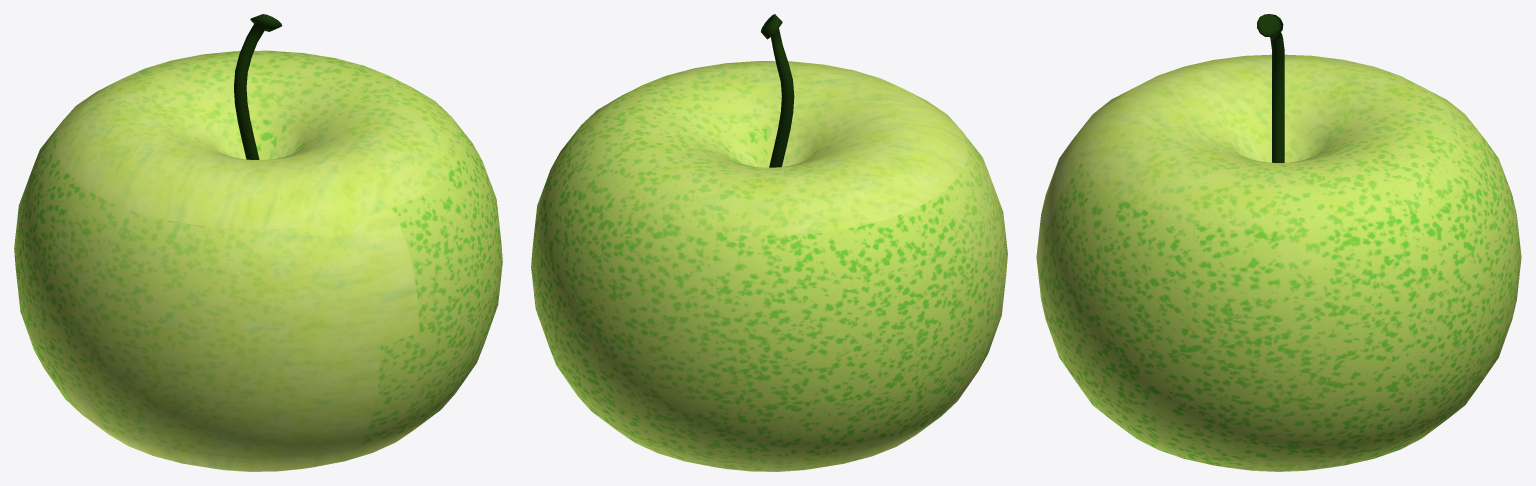
Rendered from apple.glb.
3 renders of one model, left to right at view 1: azimuth 30°, elevation 25°; view 2: azimuth 150°, elevation 25°; view 3: azimuth 270°, elevation 25°, orthographic. The views are drawn at different scales.
Parts seen in each view (by area): view 1: Sphere, 贝塞尔曲线; view 2: Sphere, 贝塞尔曲线; view 3: Sphere, 贝塞尔曲线.
Part boxes in pixels (x1,y1,x2,y2): Sphere: (14, 50, 502, 471); 贝塞尔曲线: (234, 14, 282, 159); Sphere: (531, 61, 1007, 471); 贝塞尔曲线: (761, 14, 794, 167); Sphere: (1036, 54, 1521, 471); 贝塞尔曲线: (1257, 14, 1284, 162).
Bounding box in the file's own units: 2 × 1.85 × 2.
Materials: 2 (1 with a texture image).
